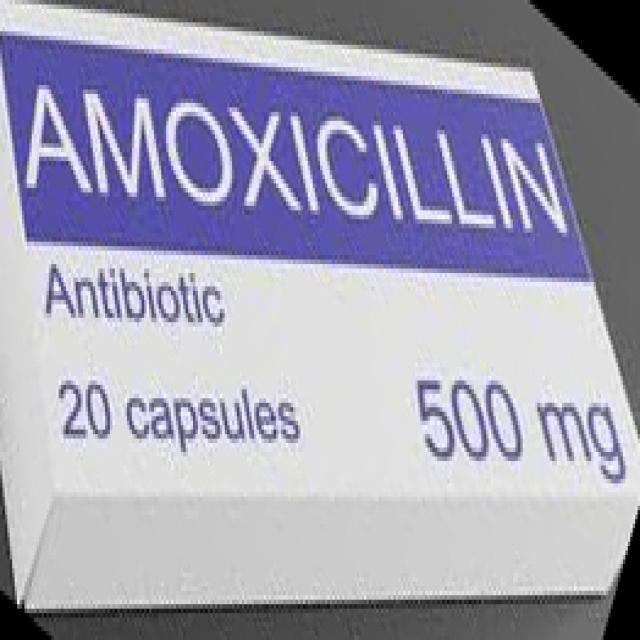drug-name: (24, 72, 577, 238)
